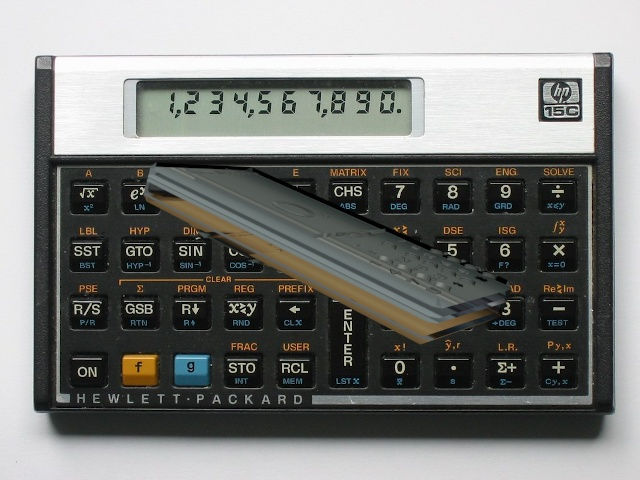mobile_phone: (137, 161, 512, 353)
